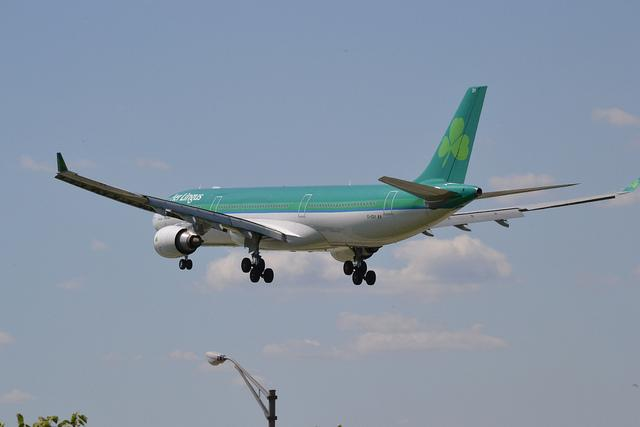airplane: (53, 84, 640, 288)
